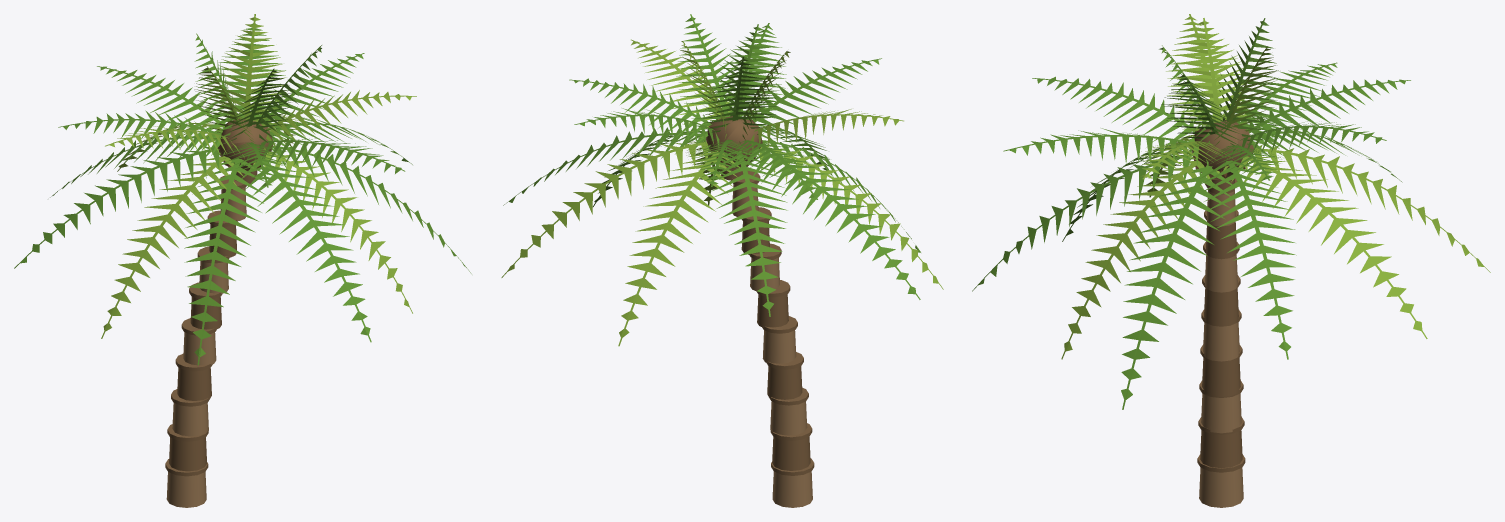
The model's file is palm.fbx.
3 renders of one model, left to right at view 1: azimuth 30°, elevation 25°; view 2: azimuth 150°, elevation 25°; view 3: azimuth 270°, elevation 25°, orthographic. The views are drawn at different scales.
Parts seen in each view (by area): view 1: palm; view 2: palm; view 3: palm.
Part boxes in pixels (x1,y1,x2,y2): palm: [14, 14, 471, 507]; palm: [501, 14, 943, 507]; palm: [972, 14, 1490, 507].
Size of the model in its own units: 9.37 by 9.89 by 9.28.
